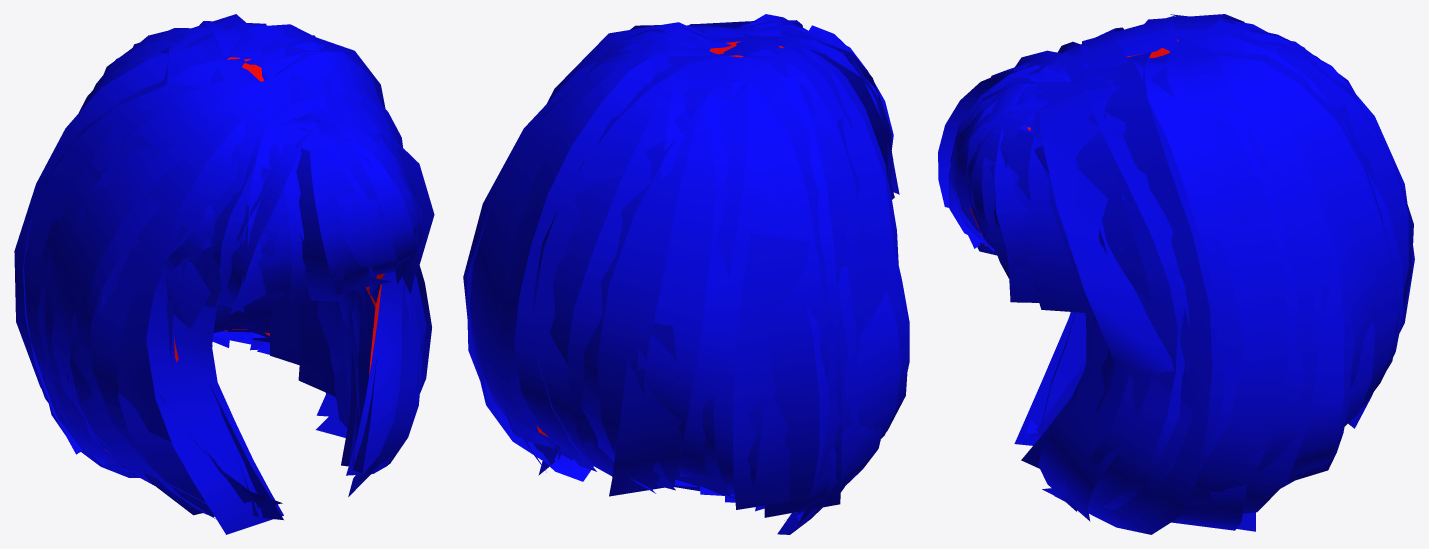
Rendered from hair_005.obj.
3 views of the same model, side by side, from view 1: azimuth 30°, elevation 25°; view 2: azimuth 150°, elevation 25°; view 3: azimuth 270°, elevation 25° (orthographic). The views are drawn at different scales.
Size of the model in its own units: 25.31 by 28.08 by 27.12.
